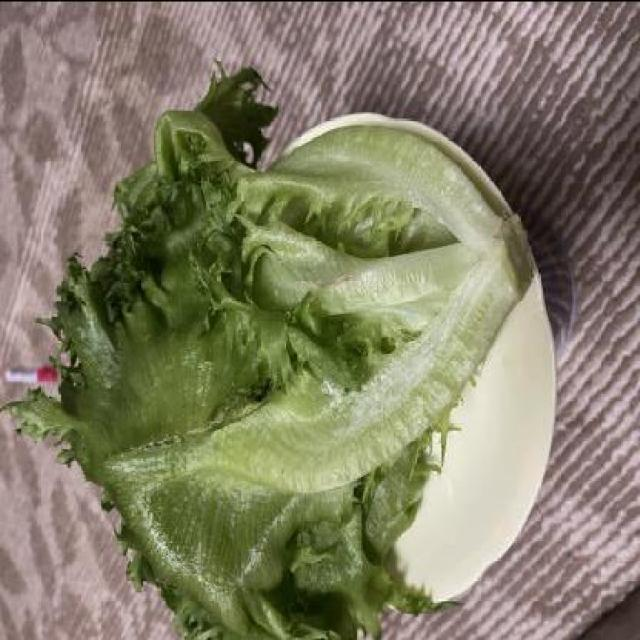Lettuce: (15, 68, 535, 640)
